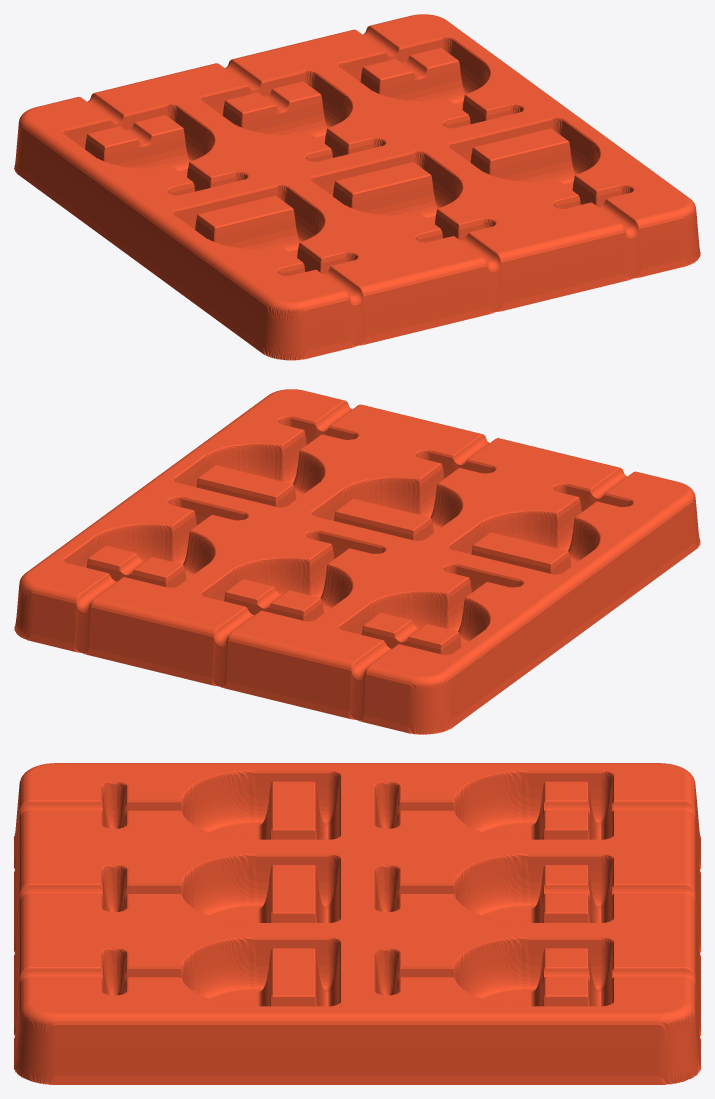
Rendered from mold.glb.
3 views of the same model, one above another, from view 1: azimuth 30°, elevation 25°; view 2: azimuth 150°, elevation 25°; view 3: azimuth 270°, elevation 25° (orthographic). The views are drawn at different scales.
Visible parts, largest first — view 1: geometry_0; view 2: geometry_0; view 3: geometry_0.
Boxes of the visible parts, bbox=[...] form: geometry_0: bbox=[14, 14, 700, 360]; geometry_0: bbox=[14, 389, 700, 734]; geometry_0: bbox=[14, 763, 700, 1084].
Bounding box in the file's own units: 0.1336 × 0.0155 × 0.1477.
